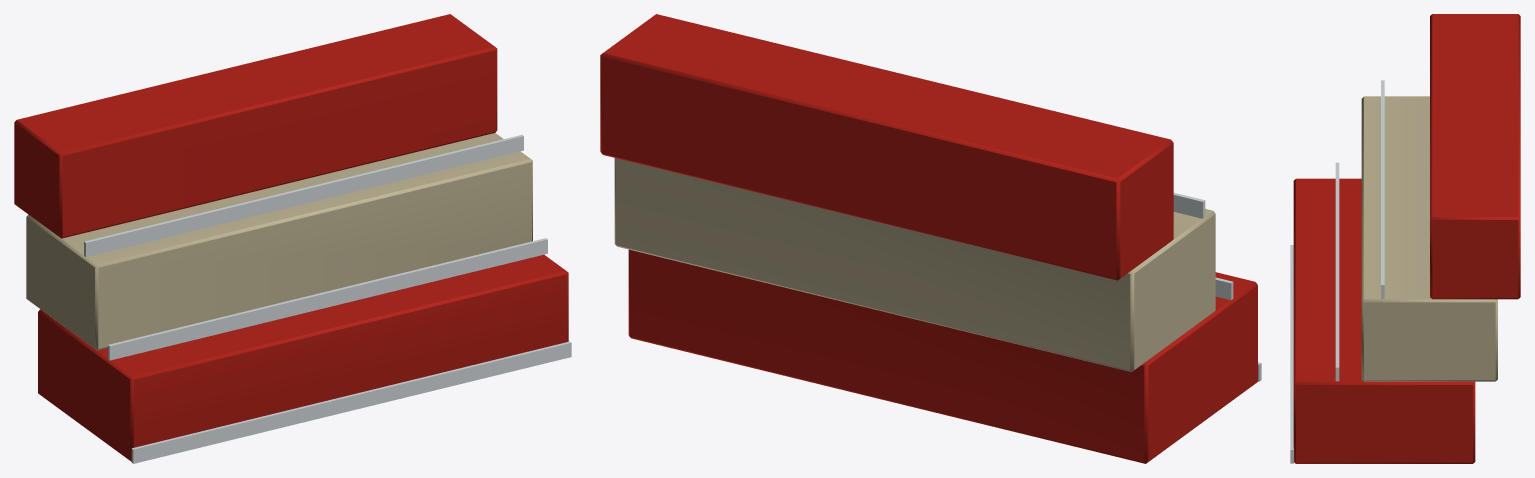
The model's file is mall-shoe-step.glb.
3 renders of one model, left to right at view 1: azimuth 30°, elevation 25°; view 2: azimuth 150°, elevation 25°; view 3: azimuth 270°, elevation 25°, orthographic. The views are drawn at different scales.
Parts seen in each view (by area): view 1: steps__lacquer, kick__mirror; view 2: steps__lacquer, kick__mirror; view 3: steps__lacquer, kick__mirror.
Boxes of the visible parts, x1,y1,x2,y2 form: steps__lacquer: [14, 14, 568, 461]; kick__mirror: [84, 135, 571, 463]; steps__lacquer: [600, 14, 1257, 463]; kick__mirror: [1173, 192, 1261, 381]; steps__lacquer: [1293, 14, 1520, 463]; kick__mirror: [1290, 80, 1384, 463].
Size of the model in its own units: 1.6 by 0.9 by 0.761.
